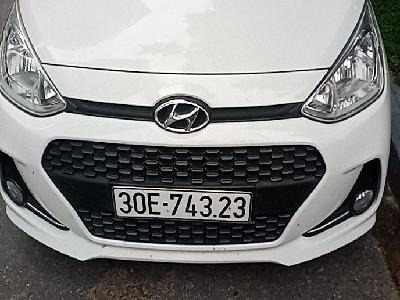car: (112, 187, 252, 226)
